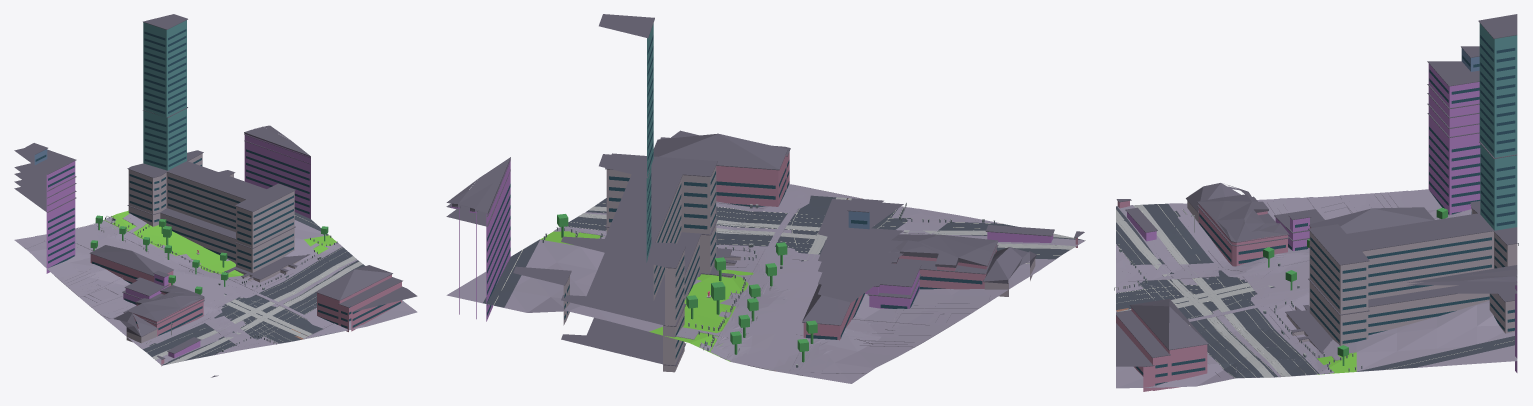
3 views of the same model, side by side, from view 1: azimuth 30°, elevation 25°; view 2: azimuth 150°, elevation 25°; view 3: azimuth 270°, elevation 25° (orthographic). The views are drawn at different scales.
Parts seen in each view (by area): view 1: compiled-chunk; view 2: compiled-chunk; view 3: compiled-chunk.
Boxes of the visible parts, x1,y1,x2,y2 form: compiled-chunk: (14,14,417,377); compiled-chunk: (446,14,1085,383); compiled-chunk: (1114,14,1518,391).
Bounding box in the file's own units: 120 × 109 × 121.
